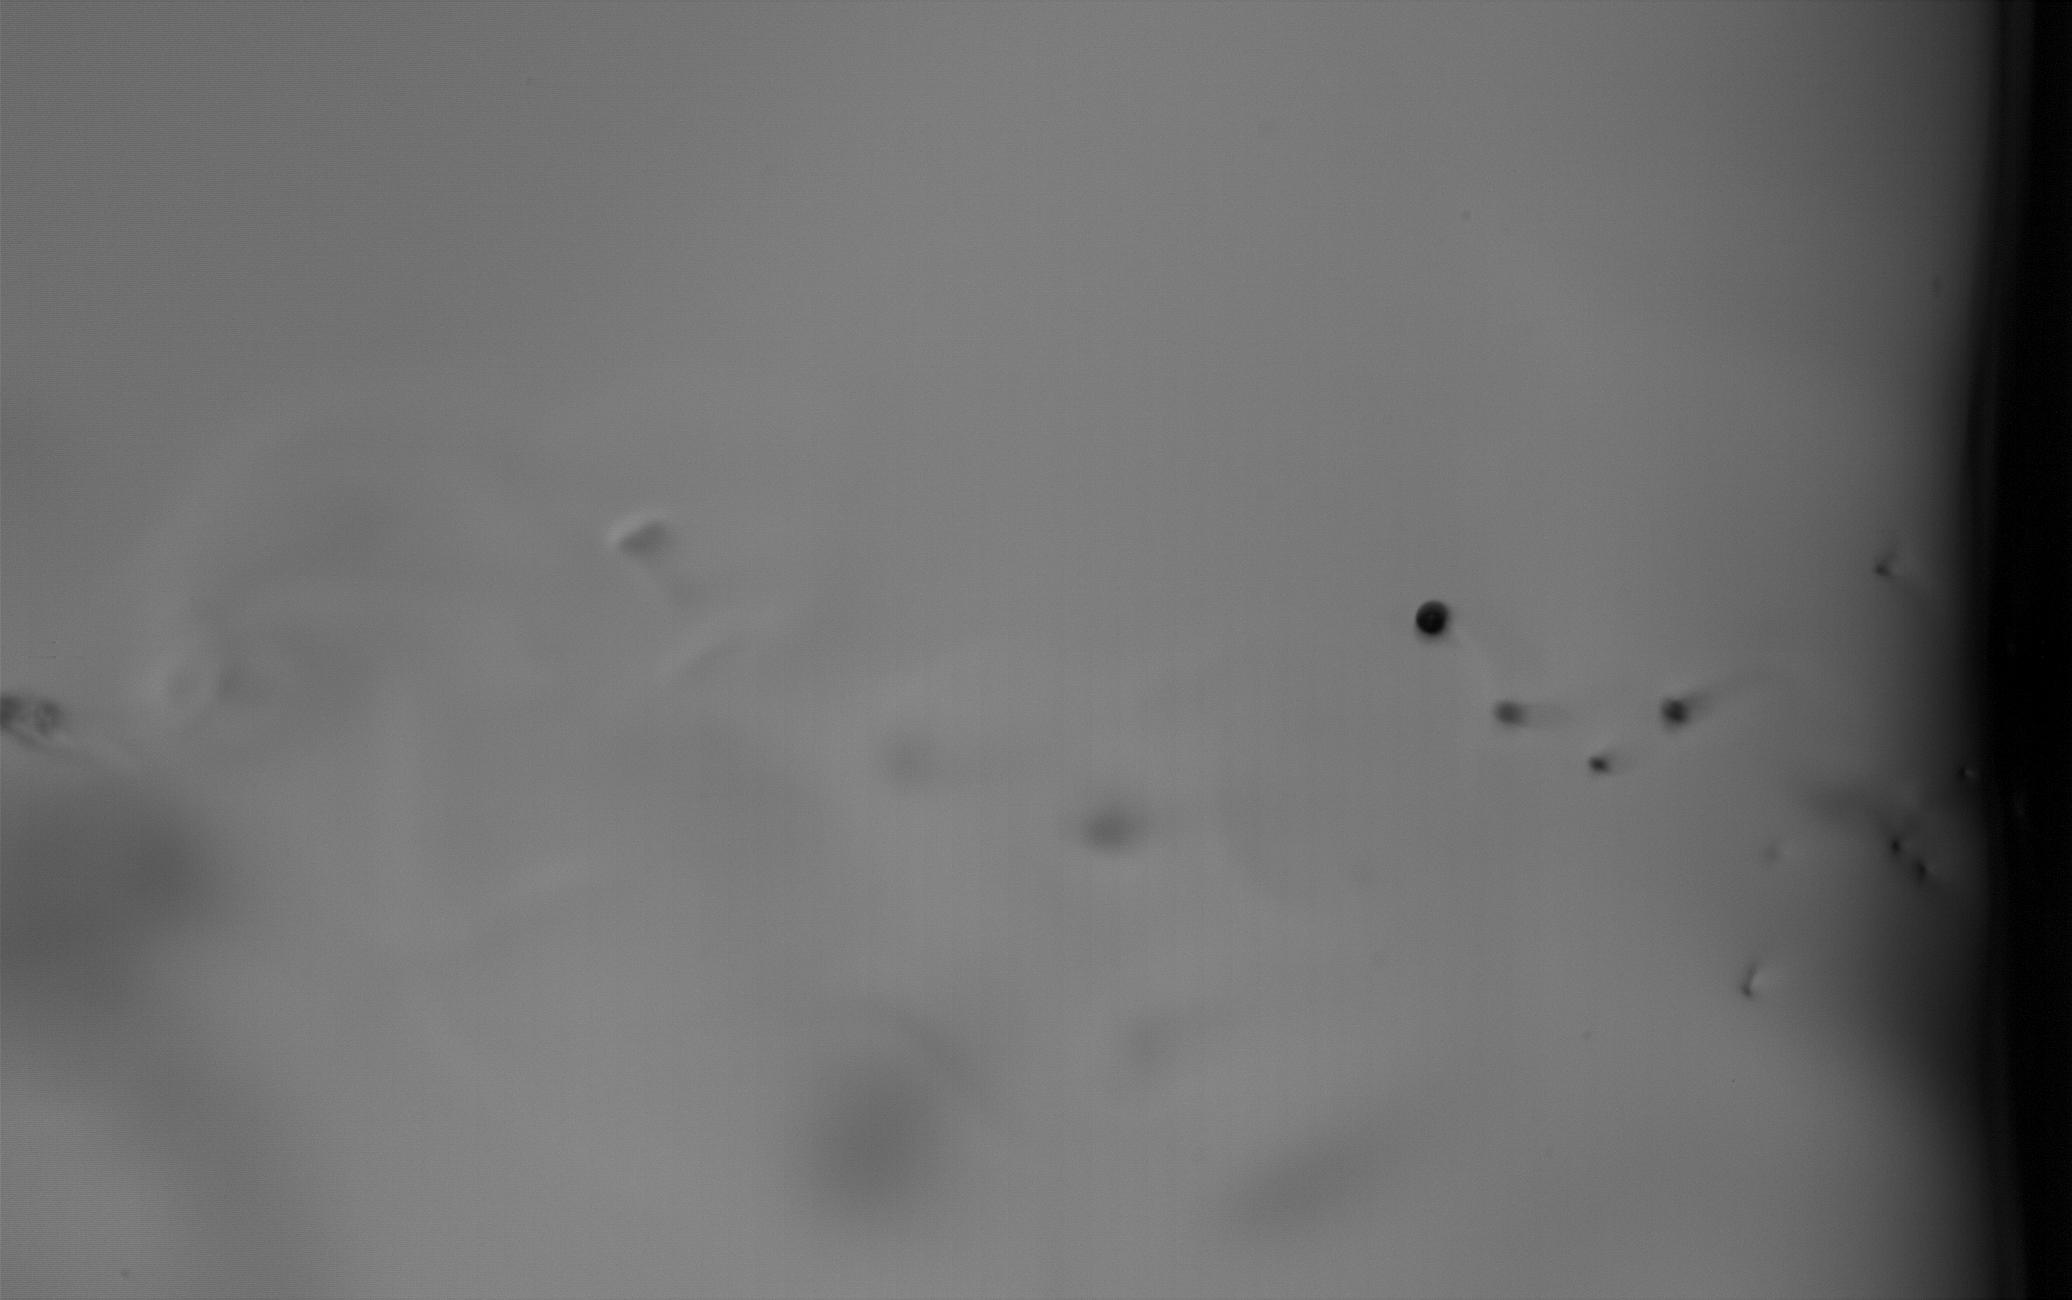Blurry: (871, 735, 939, 795)
ClassicalEvaporation: (1413, 592, 1452, 646), (1488, 693, 1533, 731), (1656, 690, 1698, 729), (1581, 747, 1612, 782), (1916, 857, 1943, 891), (1868, 556, 1895, 590), (1761, 839, 1785, 875), (1886, 831, 1907, 867)
DiffusiveMixing: (0, 687, 100, 774), (597, 511, 686, 607)
TransitionalMixing: (1061, 792, 1150, 857), (1740, 963, 1761, 1011)
